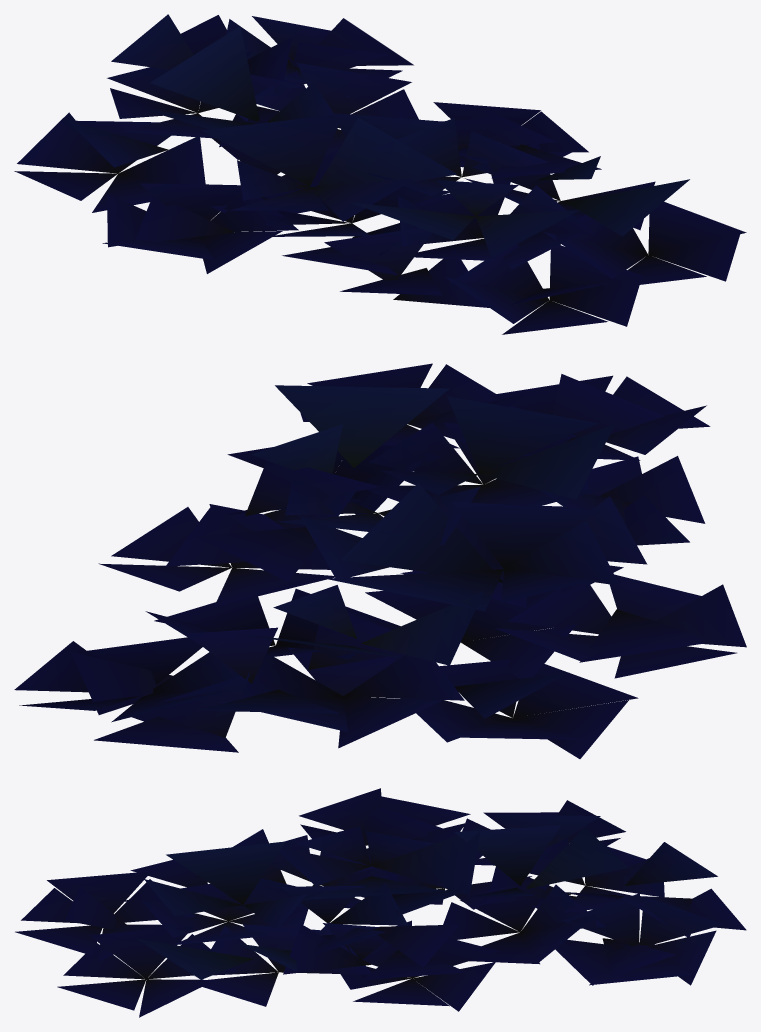
Rendered from TSI_Water_Plant_01A.fbx.
3 renders of one model, top to bottom at view 1: azimuth 30°, elevation 25°; view 2: azimuth 150°, elevation 25°; view 3: azimuth 270°, elevation 25°, orthographic. The views are drawn at different scales.
Parts seen in each view (by area): view 1: TSI_Water_Plant_01A_LOD0; view 2: TSI_Water_Plant_01A_LOD0; view 3: TSI_Water_Plant_01A_LOD0.
Part boxes in pixels (bbox=[...]): TSI_Water_Plant_01A_LOD0: bbox=[14, 14, 746, 334]; TSI_Water_Plant_01A_LOD0: bbox=[14, 363, 746, 758]; TSI_Water_Plant_01A_LOD0: bbox=[15, 788, 746, 1017].
Size of the model in its own units: 475 by 61.68 by 675.
